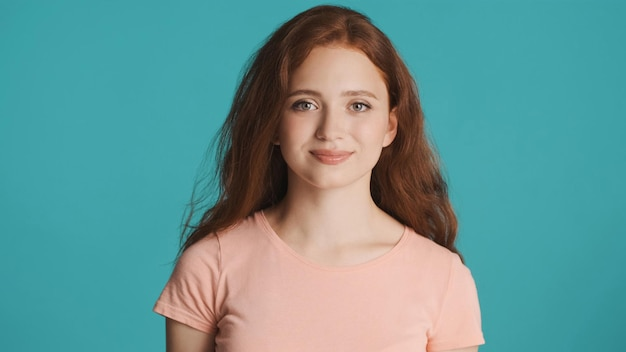teen: (232, 11, 455, 233)
